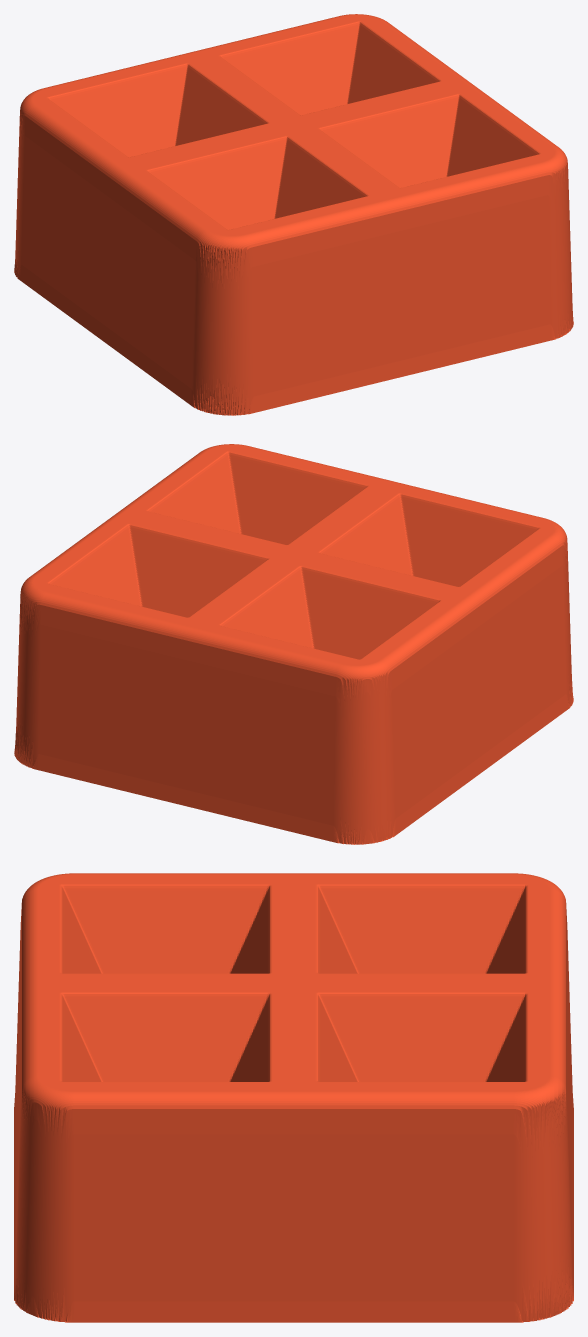
Rendered from mold.glb.
The picture shows the model from 3 angles, top to bottom: view 1: azimuth 30°, elevation 25°; view 2: azimuth 150°, elevation 25°; view 3: azimuth 270°, elevation 25°; orthographic projection. The views are drawn at different scales.
Visible parts, largest first — view 1: geometry_0; view 2: geometry_0; view 3: geometry_0.
Part boxes in pixels (x1,y1,x2,y2): geometry_0: (14,14,573,415); geometry_0: (14,444,573,844); geometry_0: (14,873,573,1322).
Bounding box in the file's own units: 0.0844 × 0.0368 × 0.0844.
